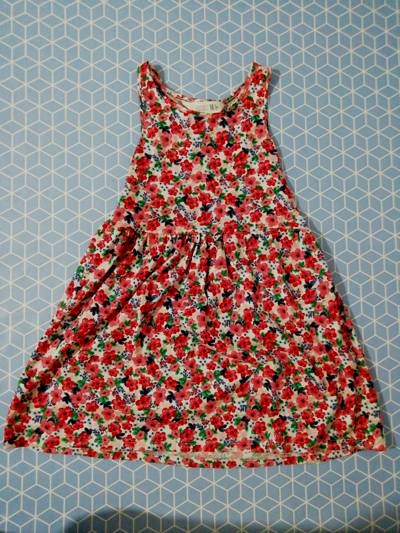Dress: (6, 65, 381, 481)
